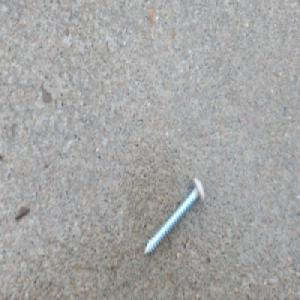Nail: (142, 173, 203, 254)
